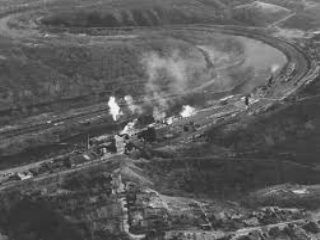smoke: (98, 92, 209, 126)
